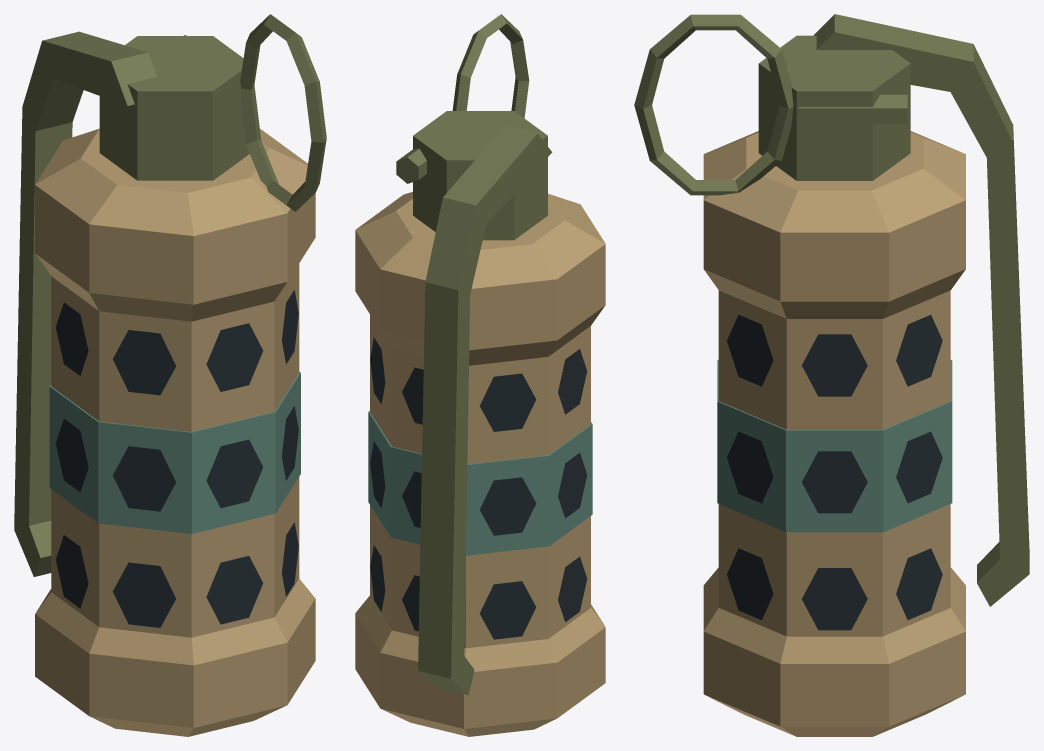
The model's file is flashbang.glb.
3 renders of one model, left to right at view 1: azimuth 30°, elevation 25°; view 2: azimuth 150°, elevation 25°; view 3: azimuth 270°, elevation 25°, orthographic. The views are drawn at different scales.
Visible parts, largest first — view 1: Faceted_canister_0, Upper_cap_2, Lower_cap_1, Safety_lever_29, Green_identification_band_3, Top_neck_28, Pull_ring_31, Casing_opening_10, Casing_opening_11, Casing_opening_12, Casing_opening_9, Casing_opening_7 (+7 smaller); view 2: Safety_lever_29, Upper_cap_2, Faceted_canister_0, Lower_cap_1, Green_identification_band_3, Top_neck_28, Pull_ring_31, Casing_opening_18, Casing_opening_17, Casing_opening_16, Casing_opening_13, Casing_opening_15 (+8 smaller); view 3: Upper_cap_2, Faceted_canister_0, Lower_cap_1, Safety_lever_29, Green_identification_band_3, Top_neck_28, Pull_ring_31, Casing_opening_25, Casing_opening_26, Casing_opening_27, Ring_attachment_30, Casing_opening_4 (+5 smaller).
Part boxes in pixels (x1,y1,x2,y2): Faceted_canister_0: (51, 264, 299, 637); Upper_cap_2: (35, 128, 315, 321); Lower_cap_1: (35, 578, 315, 736); Safety_lever_29: (14, 31, 156, 576); Green_identification_band_3: (49, 372, 300, 533); Top_neck_28: (99, 36, 249, 180); Pull_ring_31: (240, 14, 326, 211); Casing_opening_10: (112, 562, 175, 627); Casing_opening_11: (112, 446, 175, 511); Casing_opening_12: (113, 330, 175, 395); Casing_opening_9: (206, 323, 263, 391); Casing_opening_7: (206, 556, 263, 624); Safety_lever_29: (418, 126, 552, 695); Upper_cap_2: (355, 192, 605, 365); Faceted_canister_0: (370, 315, 590, 648); Lower_cap_1: (355, 595, 605, 736); Green_identification_band_3: (368, 411, 592, 555); Top_neck_28: (413, 111, 547, 240); Pull_ring_31: (452, 14, 529, 118); Casing_opening_18: (480, 373, 536, 431); Casing_opening_17: (479, 477, 536, 535); Casing_opening_16: (479, 581, 536, 639); Casing_opening_13: (558, 556, 587, 622); Casing_opening_15: (558, 349, 587, 414); Upper_cap_2: (703, 131, 965, 318); Faceted_canister_0: (718, 290, 950, 636); Lower_cap_1: (703, 567, 965, 736); Safety_lever_29: (813, 14, 1029, 606); Green_identification_band_3: (717, 360, 952, 532); Top_neck_28: (758, 35, 910, 180); Pull_ring_31: (634, 14, 793, 195); Casing_opening_25: (802, 568, 867, 630); Casing_opening_26: (802, 451, 867, 513); Casing_opening_27: (802, 334, 867, 396); Ring_attachment_30: (798, 94, 907, 124); Casing_opening_4: (727, 548, 773, 620).
Size of the model in its own units: 0.0795 by 0.2361 by 0.1197.
